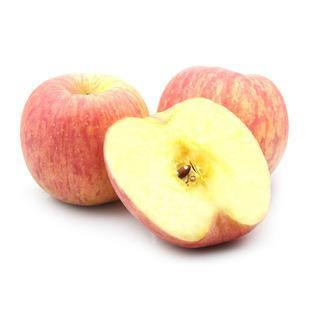apple: (18, 71, 149, 209), (157, 66, 288, 176)
